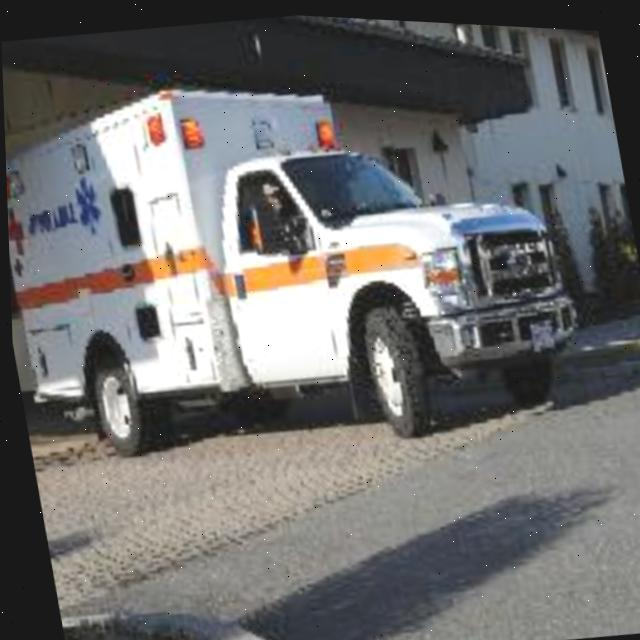emergency: (1, 33, 592, 492)
